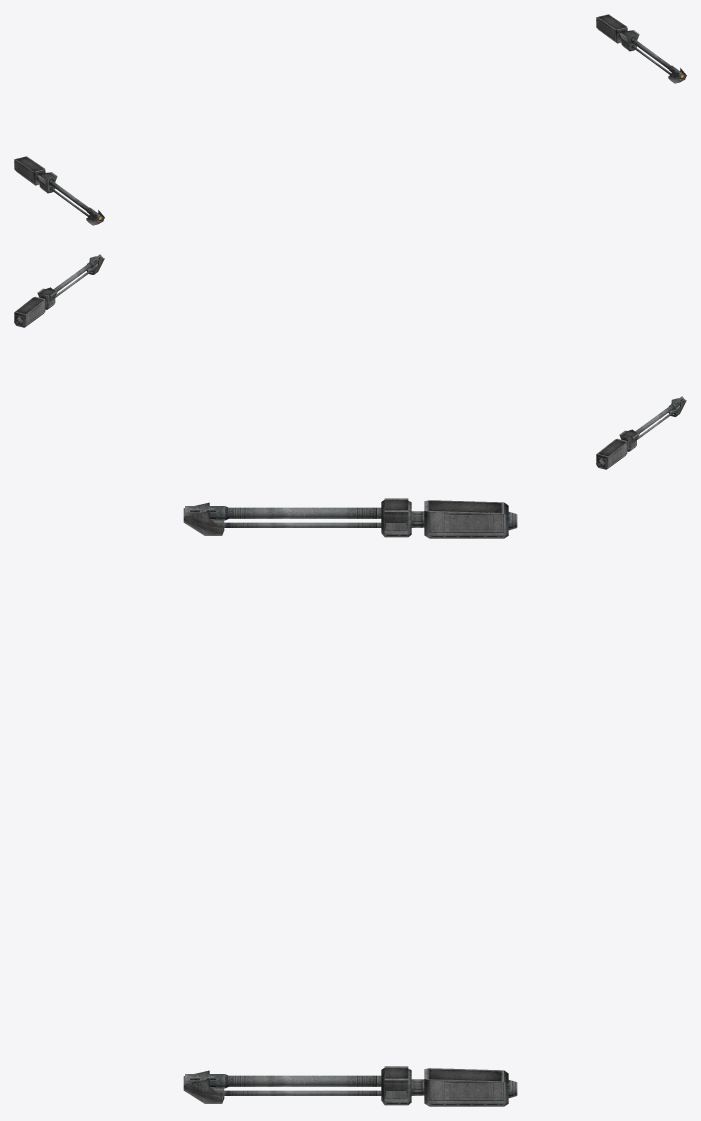
The model's file is hutt_fighter_heavy_weapon2_s06_l1.fbx.
The picture shows the model from 3 angles, top to bottom: view 1: azimuth 30°, elevation 25°; view 2: azimuth 150°, elevation 25°; view 3: azimuth 270°, elevation 25°; orthographic projection. The views are drawn at different scales.
Parts seen in each view (by area): view 1: mesh_node; view 2: mesh_node; view 3: mesh_node.
Boxes of the visible parts, box(x1,y1,x2,y2) form: mesh_node: box(14, 14, 686, 225); mesh_node: box(14, 254, 686, 469); mesh_node: box(183, 498, 517, 1106).
Size of the model in its own units: 26.62 by 0.7548 by 6.45.
